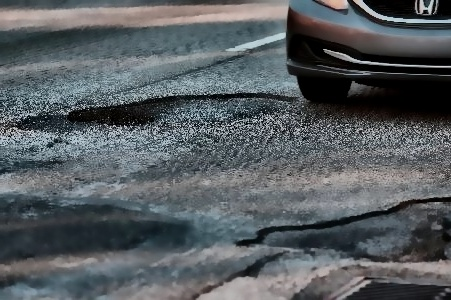pothole: (236, 193, 451, 263), (67, 89, 298, 129)
